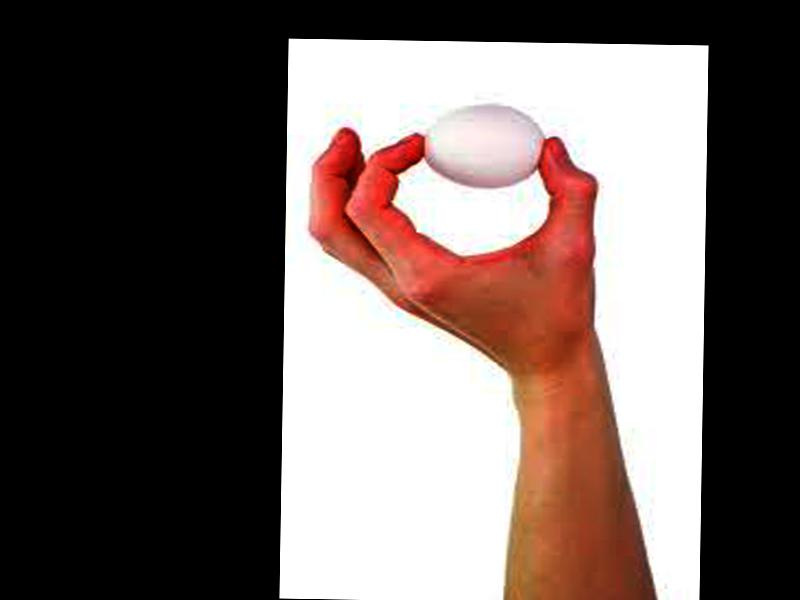Eggs: (421, 103, 544, 189)
